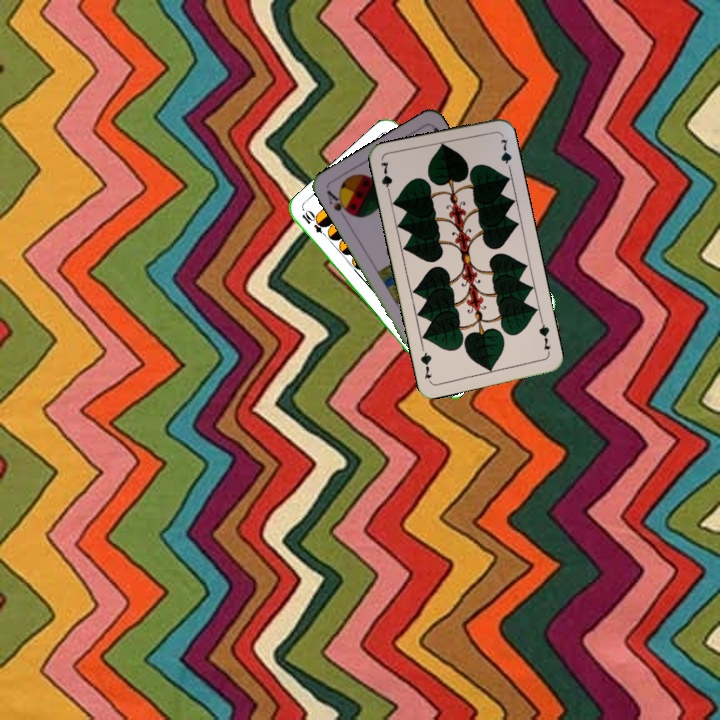E10: (297, 207, 332, 241)
G7: (377, 158, 395, 198), (535, 317, 553, 357)
SA: (322, 186, 355, 218)
